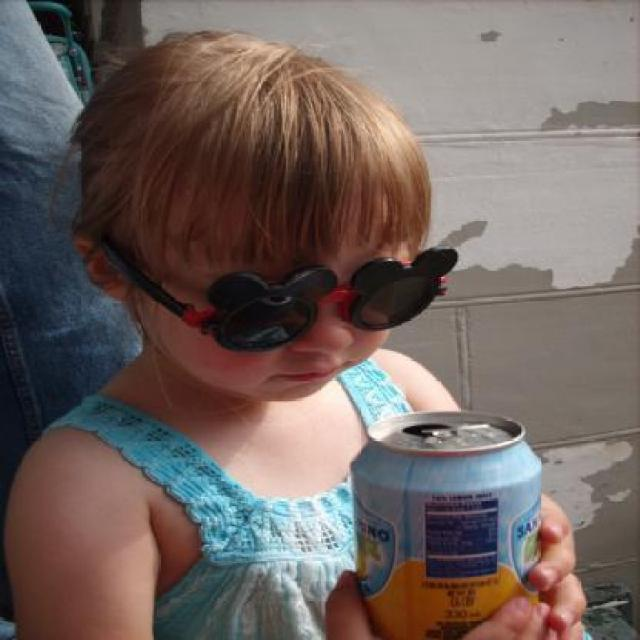face_nomask: (217, 262, 386, 401)
glasses: (94, 225, 472, 362)
hand_noglove: (461, 489, 594, 640)
head_nohelmet: (93, 52, 439, 219)
